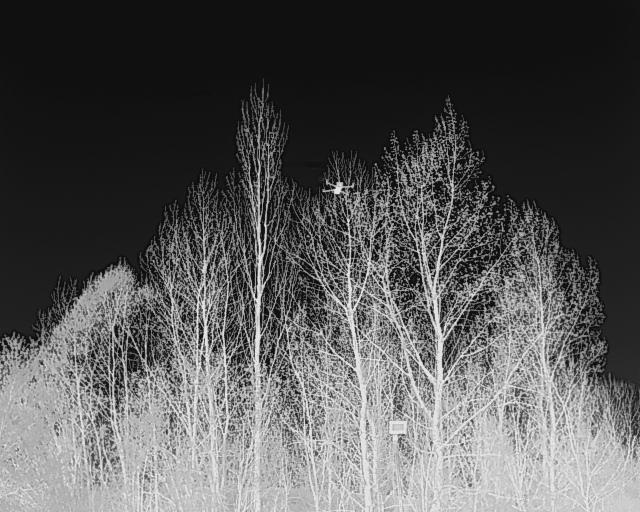drone: (315, 171, 364, 206)
